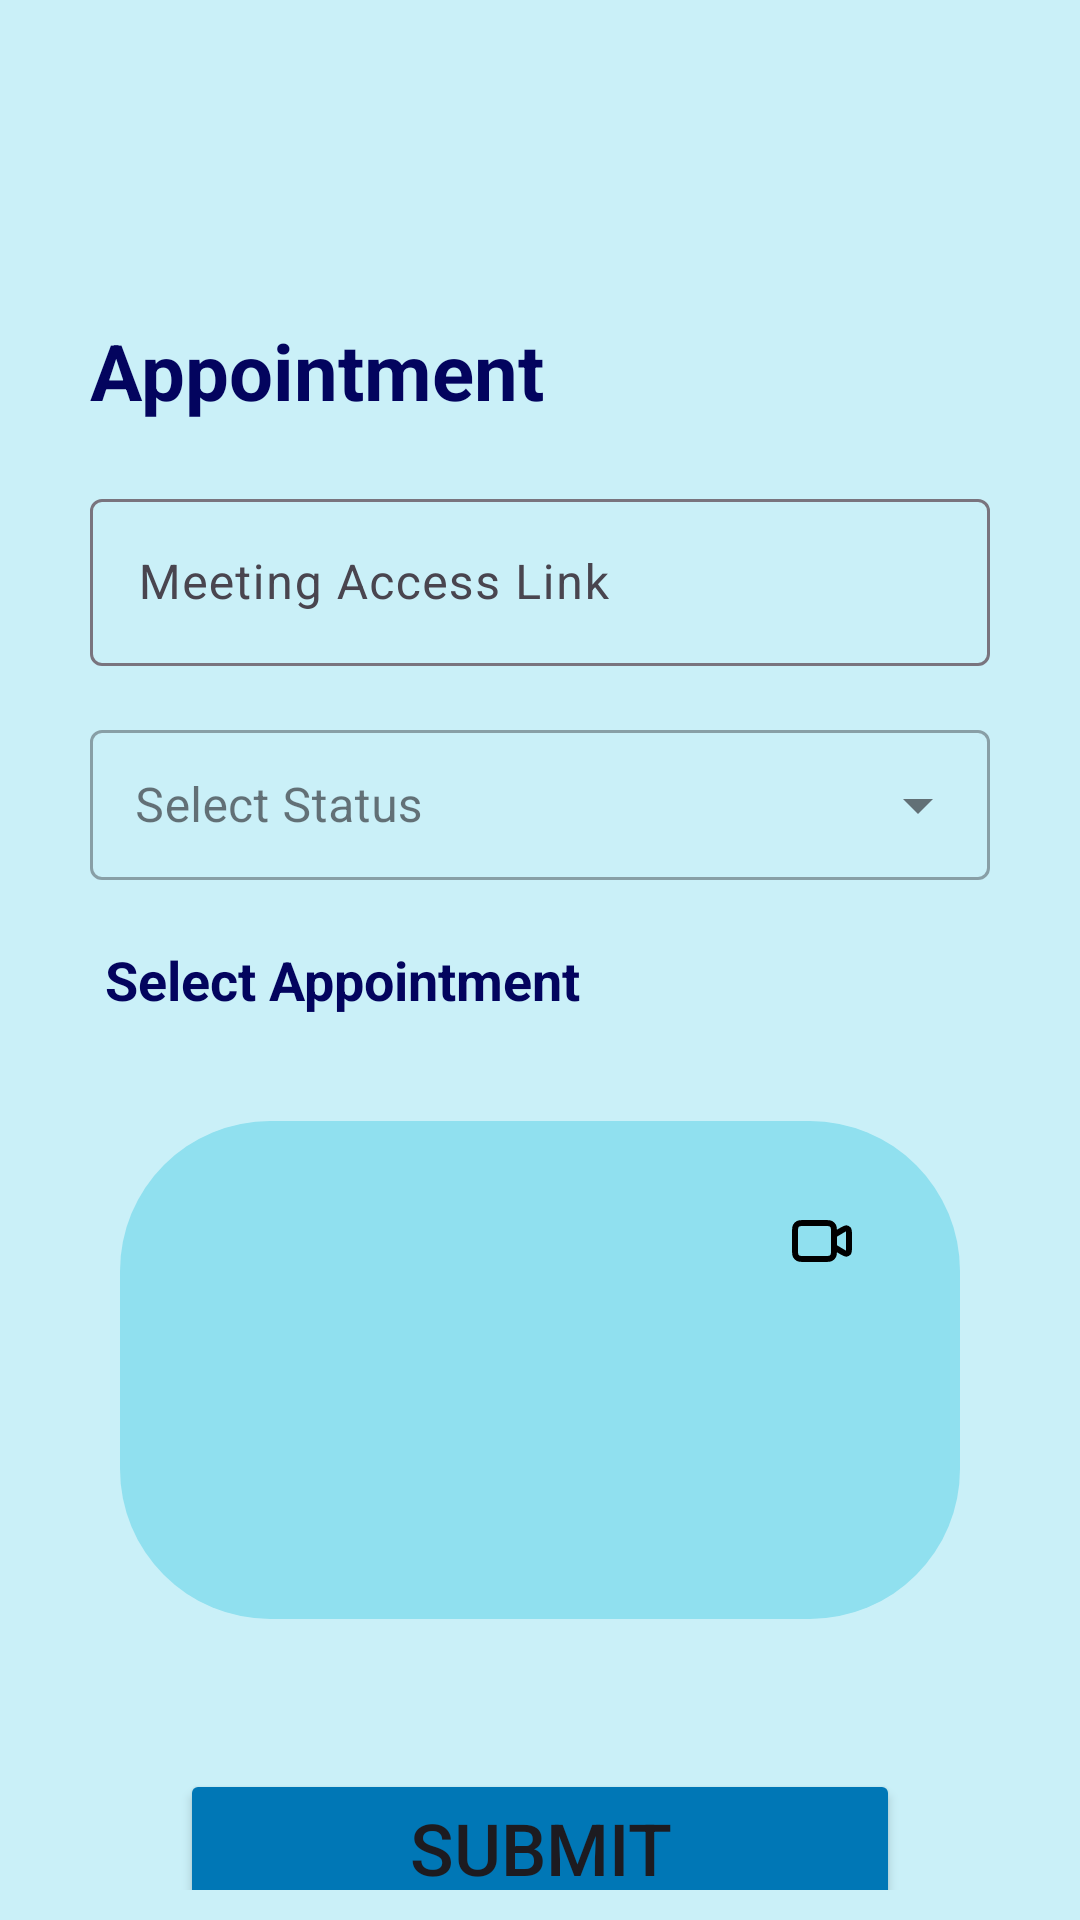

Screen size 1080 × 1920. Icon name, then its center in pixels as [x,y]:
video: [822,1241]
